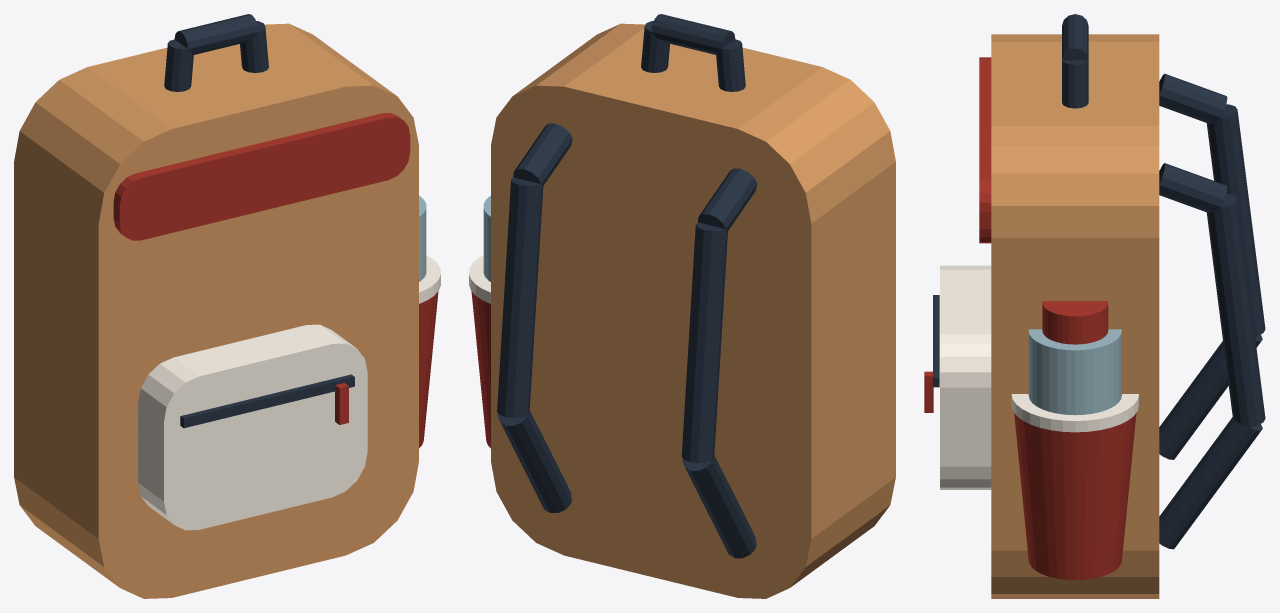
The model's file is backpack.glb.
3 renders of one model, left to right at view 1: azimuth 30°, elevation 25°; view 2: azimuth 150°, elevation 25°; view 3: azimuth 270°, elevation 25°, orthographic.
Visible parts, largest first — view 1: fabric shell, front pocket, lid binding, zip, carry loop1, side pocket, carry loop0, carry loop2, pocket rim, bottle neck, zip pull; view 2: fabric shell, strap -0.341, strap 0.341, strap -0.342, strap 0.342, carry loop1, strap -0.340, strap 0.340, side pocket, carry loop0, carry loop2, pocket rim (+1 smaller); view 3: fabric shell, side pocket, front pocket, strap 0.341, bottle neck, strap 0.342, strap -0.341, strap -0.342, cap, pocket rim, lid binding, strap -0.340 (+4 smaller).
Part boxes in pixels (left/top/right/bottom): fabric shell: left=14, top=23, right=418, bottom=598; front pocket: left=138, top=324, right=367, bottom=530; lid binding: left=113, top=113, right=410, bottom=240; zip: left=180, top=374, right=354, bottom=428; carry loop1: left=174, top=14, right=258, bottom=54; side pocket: left=419, top=291, right=438, bottom=448; carry loop0: left=164, top=39, right=193, bottom=91; carry loop2: left=240, top=21, right=268, bottom=72; pocket rim: left=419, top=255, right=440, bottom=303; bottle neck: left=419, top=195, right=426, bottom=281; zip pull: left=335, top=383, right=348, bottom=424; fabric shell: left=491, top=23, right=895, bottom=598; strap -0.341: left=681, top=222, right=727, bottom=463; strap 0.341: left=497, top=177, right=543, bottom=417; strap -0.342: left=682, top=455, right=756, bottom=558; strap 0.342: left=497, top=410, right=571, bottom=512; carry loop1: left=651, top=14, right=735, bottom=54; strap -0.340: left=698, top=168, right=757, bottom=230; strap 0.340: left=513, top=123, right=572, bottom=185; side pocket: left=471, top=291, right=490, bottom=448; carry loop0: left=716, top=39, right=745, bottom=91; carry loop2: left=641, top=21, right=669, bottom=72; pocket rim: left=469, top=255, right=490, bottom=303; fabric shell: left=991, top=34, right=1159, bottom=598; side pocket: left=1014, top=413, right=1136, bottom=580; front pocket: left=940, top=265, right=991, bottom=489; strap 0.341: left=1206, top=194, right=1265, bottom=427; bottle neck: left=1028, top=329, right=1121, bottom=415; strap 0.342: left=1159, top=417, right=1262, bottom=549; strap -0.341: left=1206, top=104, right=1265, bottom=336; strap -0.342: left=1159, top=334, right=1262, bottom=459; cap: left=1042, top=301, right=1108, bottom=344; pocket rim: left=1011, top=394, right=1138, bottom=432; lid binding: left=979, top=57, right=991, bottom=243; strap -0.340: left=1159, top=73, right=1227, bottom=123.
Bounding box in the file's own units: 1.38 × 1.84 × 1.1.
